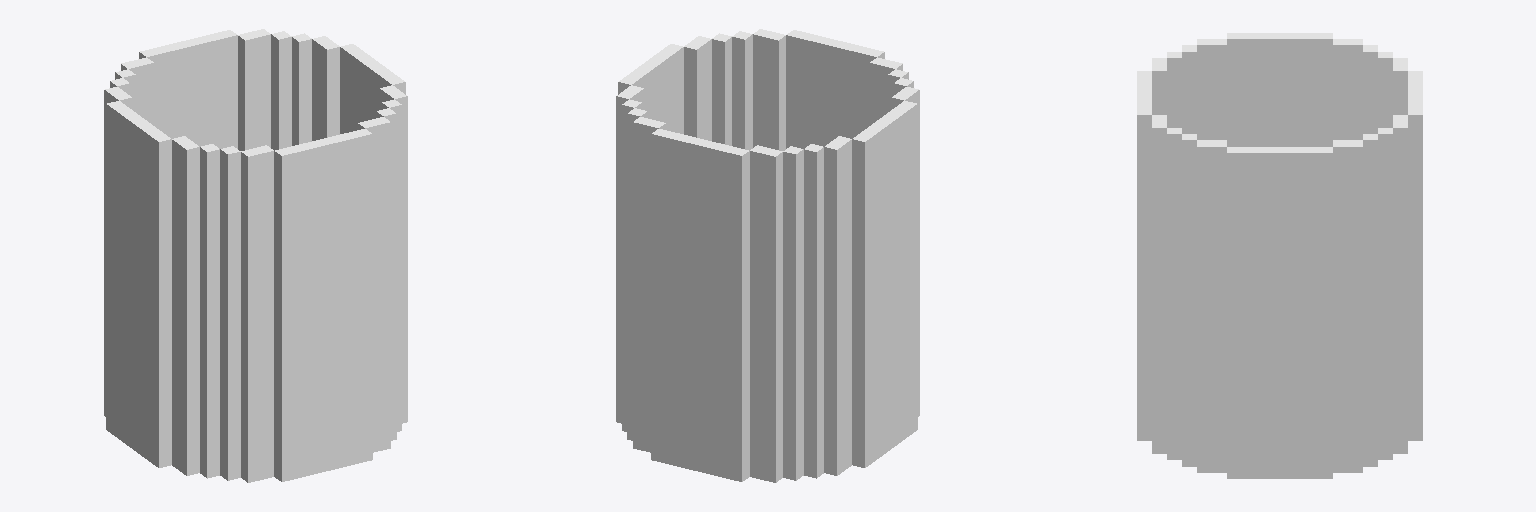
File: TrashCan.obj
3 views of the same model, side by side, from view 1: azimuth 30°, elevation 25°; view 2: azimuth 150°, elevation 25°; view 3: azimuth 270°, elevation 25° (orthographic).
Bounding box in the file's own units: 19 × 24 × 19.